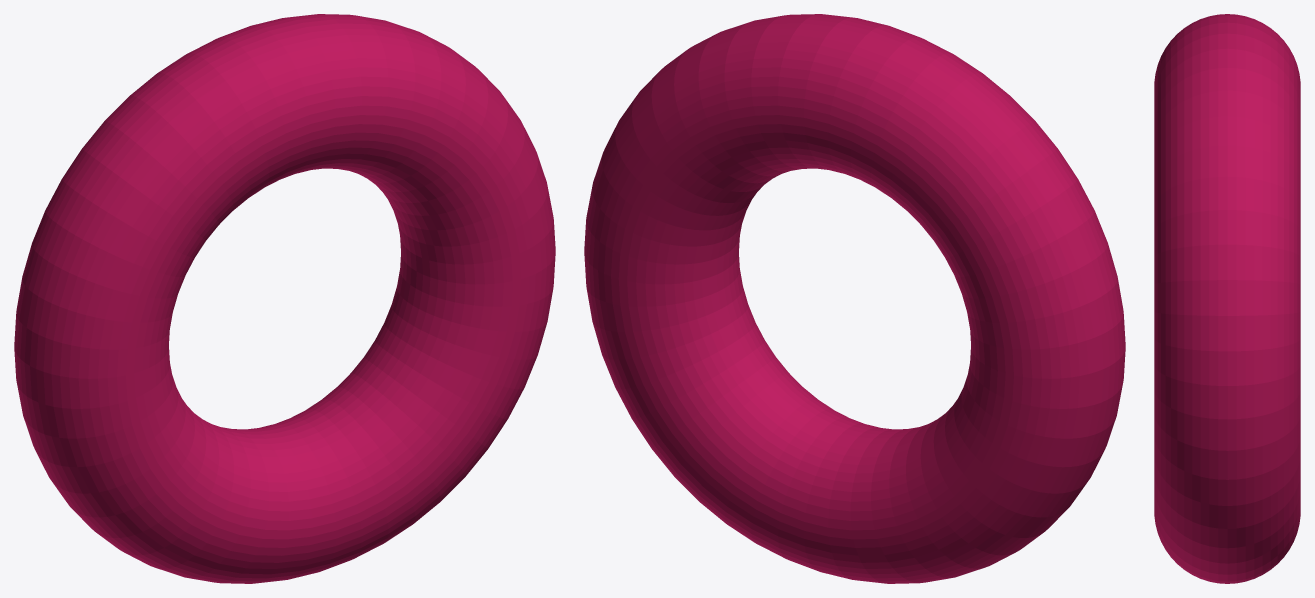
The picture shows the model from 3 angles, left to right: view 1: azimuth 30°, elevation 25°; view 2: azimuth 150°, elevation 25°; view 3: azimuth 270°, elevation 25°; orthographic projection. The views are drawn at different scales.
Visible parts, largest first — view 1: world; view 2: world; view 3: world.
Part boxes in pixels (x1,y1,x2,y2): world: [14, 14, 555, 583]; world: [584, 14, 1125, 583]; world: [1154, 14, 1300, 583].
Size of the model in its own units: 36.8 by 36.73 by 9.45.
